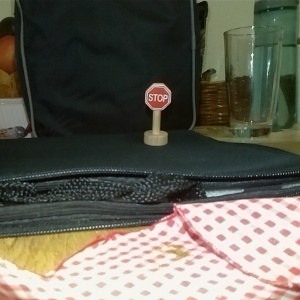stop sign: (141, 80, 172, 149)
